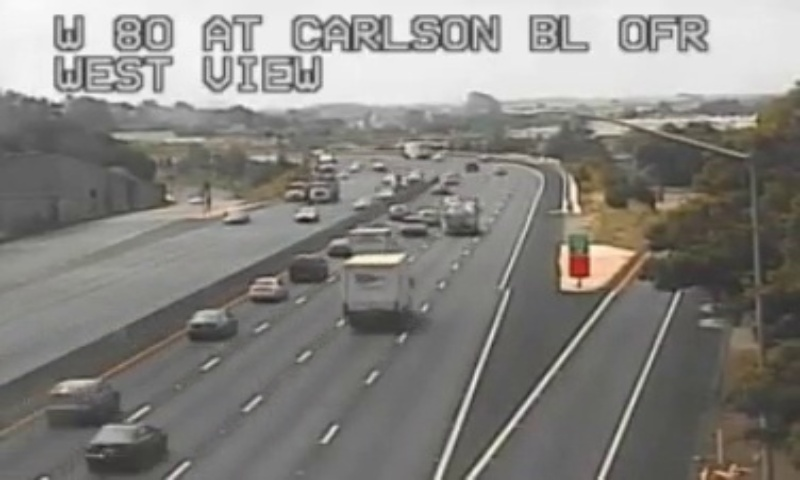car: (87, 424, 165, 469), (48, 380, 121, 422), (187, 310, 236, 341), (247, 277, 288, 302), (287, 254, 327, 279), (325, 236, 348, 258)
small-truck: (340, 252, 408, 323), (348, 229, 389, 254)
